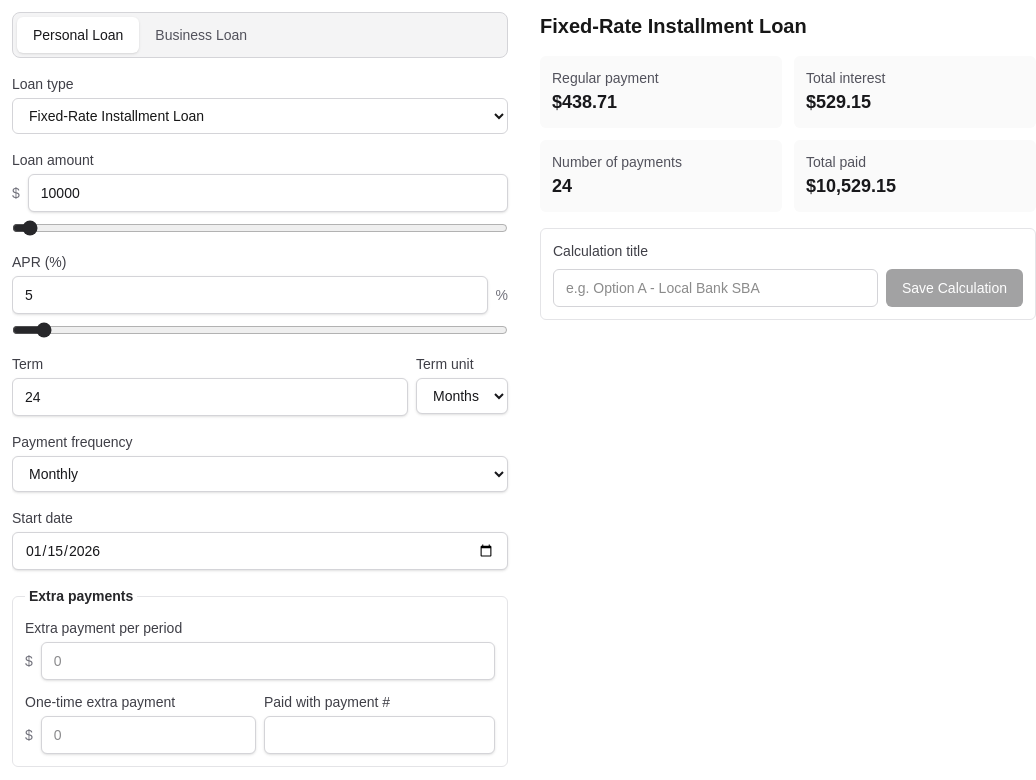
it: Calculator form (REQ-UI-003, REQ-NFR-CODE2) › keeps the APR slider and number input in sync
Set the slider named "APR (%) slider" to "7.5" at (56, 330), box [12,322,508,338]
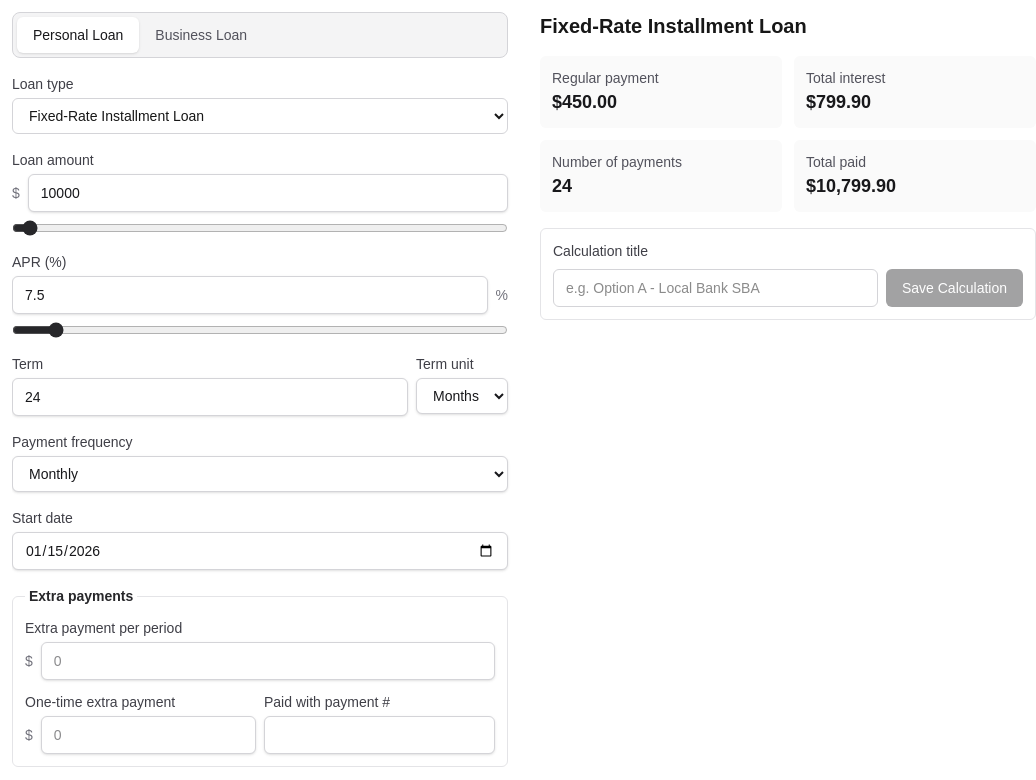
Expected: the field labelled "APR (%)" holds "7.5"
Replace the text in the field labelled "APR (%)" with "12" at (250, 295), box [12,276,488,314]
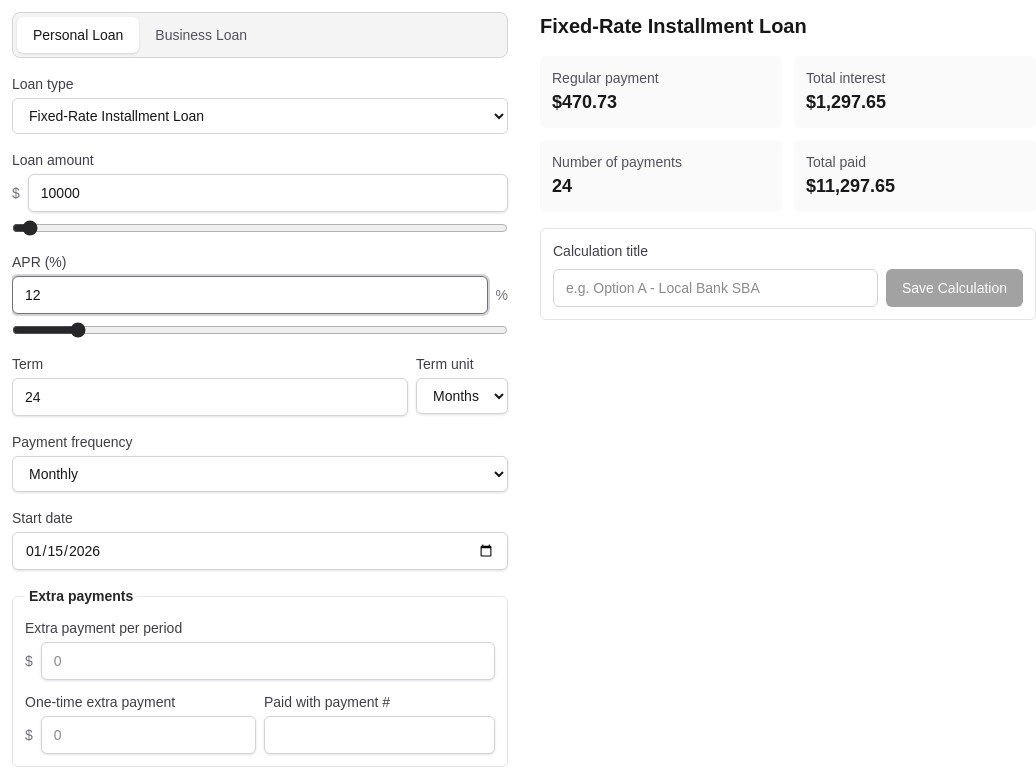
Expected: the slider named "APR (%) slider" holds "12", [12,322,508,338]
